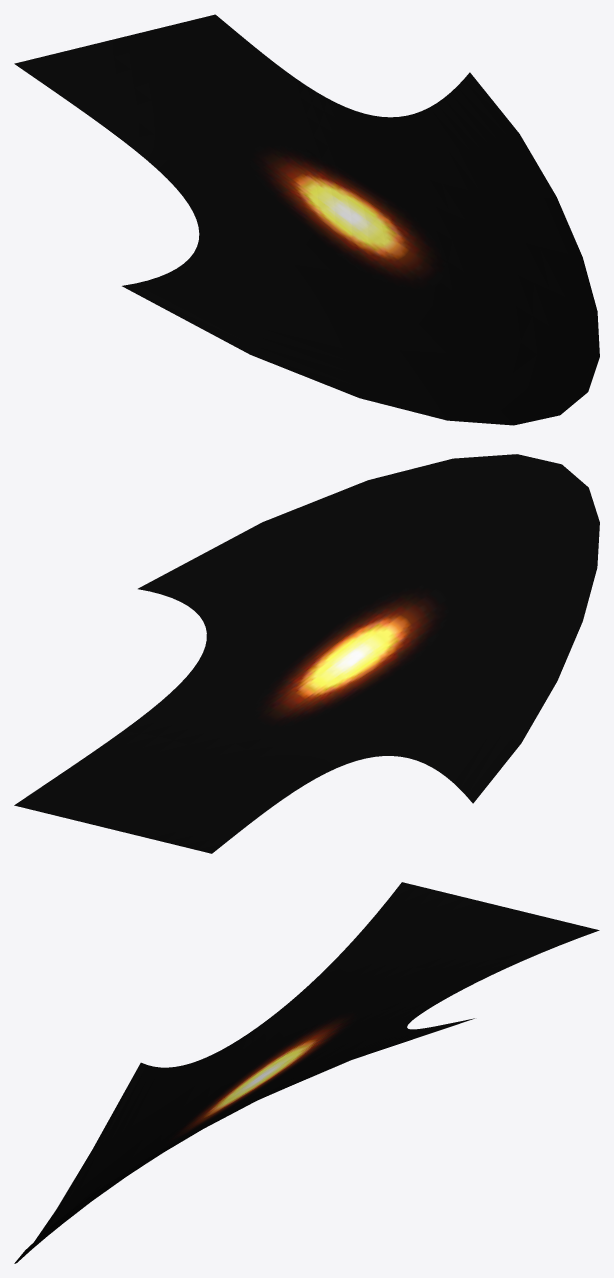
Rendered from 0343_jiantou.glb.
The picture shows the model from 3 angles, top to bottom: view 1: azimuth 30°, elevation 25°; view 2: azimuth 150°, elevation 25°; view 3: azimuth 330°, elevation 25°; orthographic projection.
Bounding box in the file's own units: 0.9157 × 0.4003 × 2.2.
Materials: 1 (1 with a texture image).
